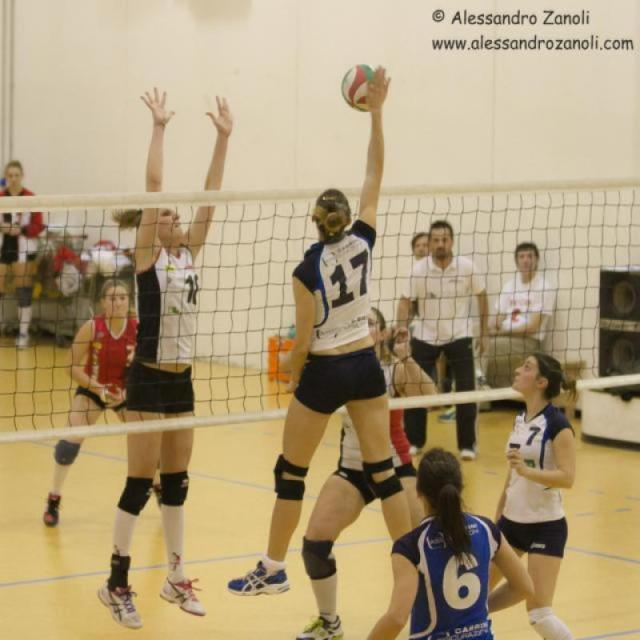volleyball: (338, 61, 388, 110)
